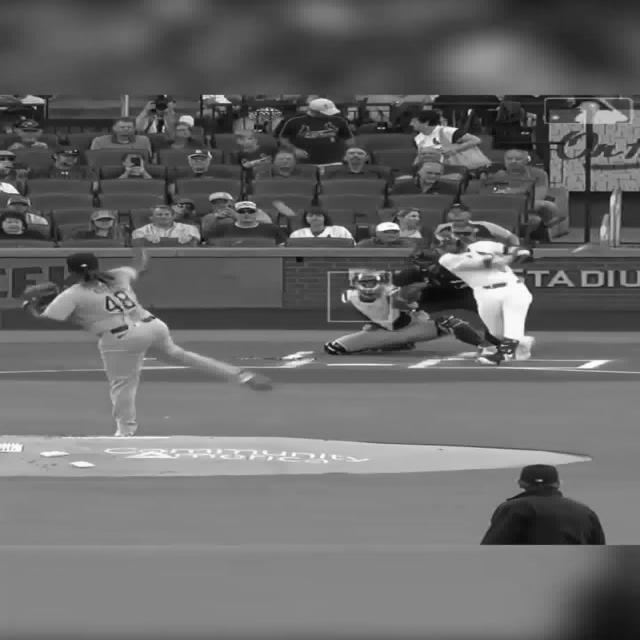base: (325, 363, 398, 367)
baseball: (276, 202, 296, 218)
baseball_glove: (389, 284, 429, 306), (20, 283, 61, 300)
shoe: (234, 373, 279, 394), (480, 352, 517, 363), (114, 426, 140, 438)
